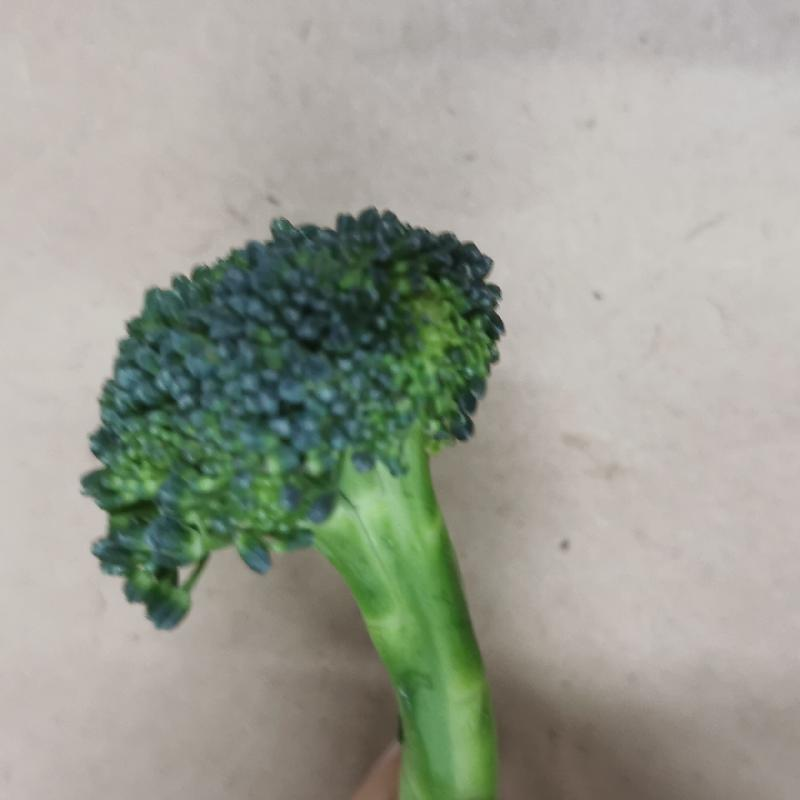broccoli: (85, 209, 523, 799)
